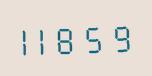eight: (64, 20, 86, 55)
five: (87, 19, 109, 54)
nine: (110, 18, 132, 54)
one: (18, 22, 40, 57), (41, 21, 63, 56)
